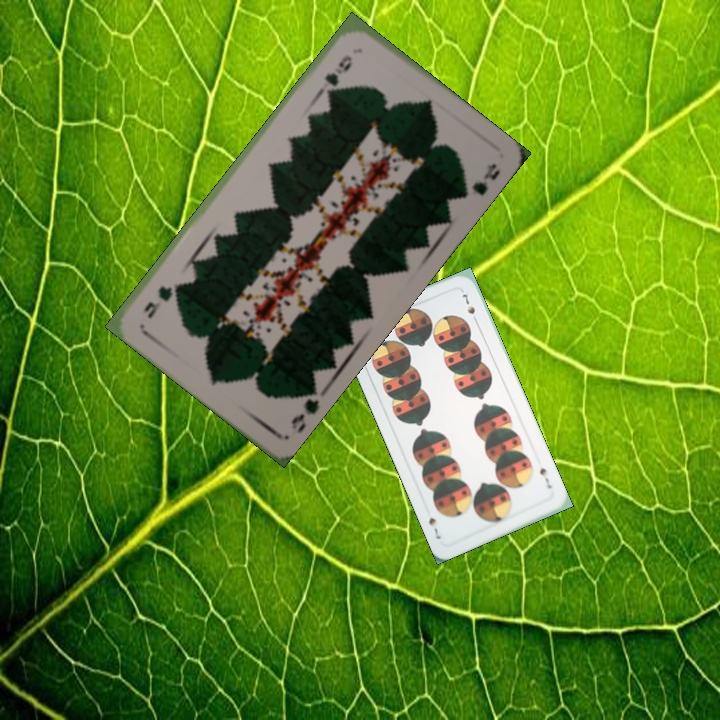G9: (287, 383, 322, 435), (320, 51, 355, 88)
S7: (536, 464, 555, 491)
